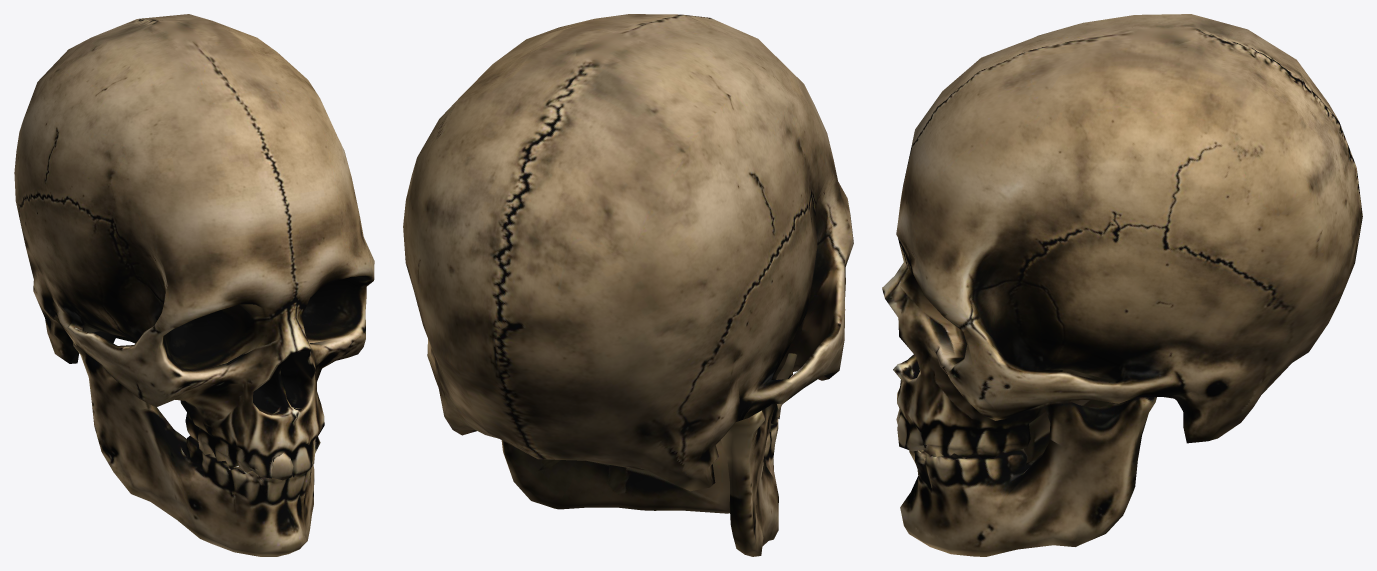
The model's file is skull.glb.
3 views of the same model, side by side, from view 1: azimuth 30°, elevation 25°; view 2: azimuth 150°, elevation 25°; view 3: azimuth 270°, elevation 25° (orthographic). The views are drawn at different scales.
Parts seen in each view (by area): view 1: polySurface13, polySurface15, polySurface14; view 2: polySurface13, polySurface15; view 3: polySurface13, polySurface15.
Part boxes in pixels (x1=…): polySurface13: x1=14, y1=14, x2=374, y2=478; polySurface15: x1=72, y1=331, x2=314, y2=556; polySurface14: x1=272, y1=452, x2=293, y2=480; polySurface13: x1=403, y1=14, x2=853, y2=491; polySurface15: x1=501, y1=353, x2=796, y2=556; polySurface13: x1=882, y1=14, x2=1362, y2=459; polySurface15: x1=900, y1=369, x2=1156, y2=556.
Size of the model in its own units: 0.631 by 1 by 0.8581.
1 material, 1 textured.
